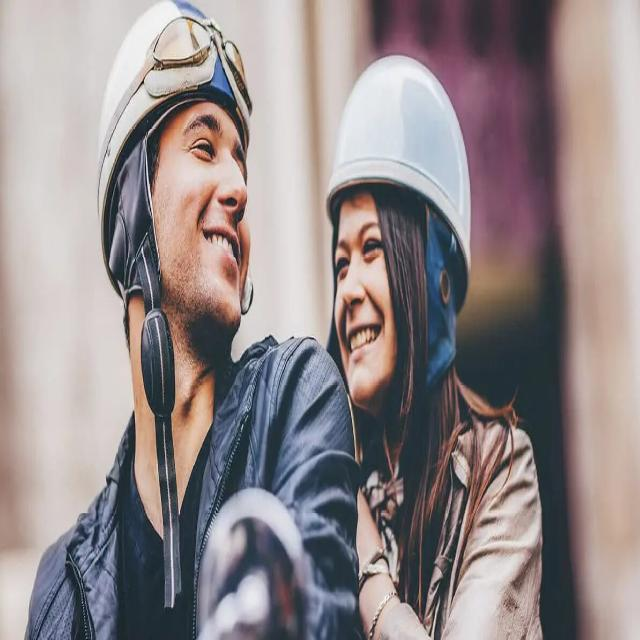helmet: (322, 47, 476, 422)
illegal_helmet: (91, 0, 258, 626)
